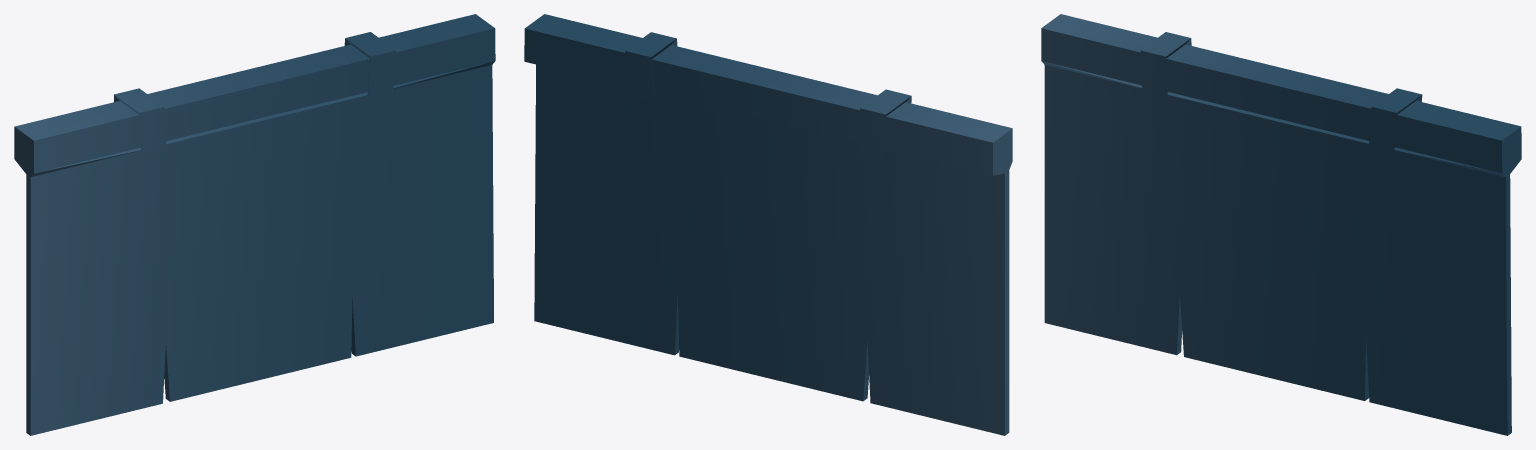
The model's file is Noren_Blank_Blue.fbx.
3 renders of one model, left to right at view 1: azimuth 30°, elevation 25°; view 2: azimuth 150°, elevation 25°; view 3: azimuth 330°, elevation 25°, orthographic.
Parts seen in each view (by area): view 1: Noren_Blank_Blue; view 2: Noren_Blank_Blue; view 3: Noren_Blank_Blue.
Boxes of the visible parts, left/top/right/bottom form: Noren_Blank_Blue: left=14, top=14, right=495, bottom=435; Noren_Blank_Blue: left=524, top=14, right=1012, bottom=435; Noren_Blank_Blue: left=1041, top=14, right=1521, bottom=435.
Size of the model in its own units: 1 by 0.6267 by 0.0953.
1 material, 1 textured.
